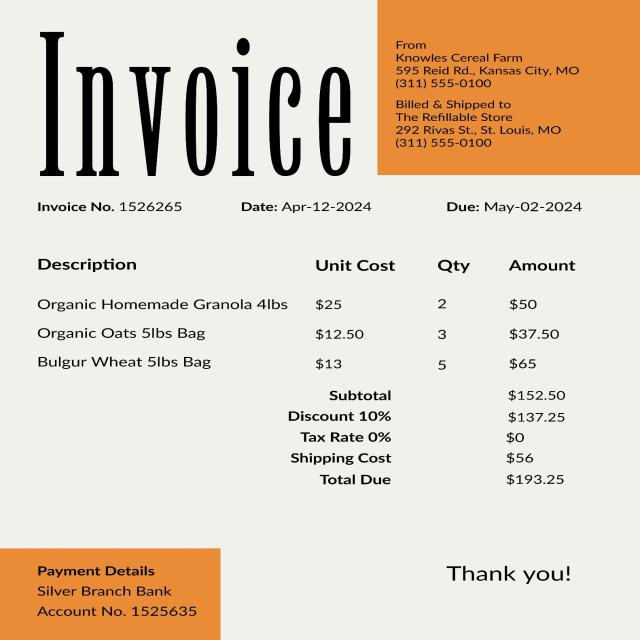paragraph: (17, 20, 360, 181), (270, 387, 585, 492), (17, 550, 211, 633), (424, 551, 593, 597), (20, 189, 189, 228), (435, 196, 599, 222), (234, 195, 386, 222)
table: (22, 251, 608, 381)
